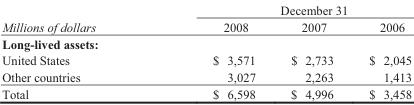table: (1, 1, 411, 101)
table column: (1, 1, 153, 101), (153, 1, 272, 101), (272, 1, 350, 101), (350, 1, 411, 101)
table column header: (1, 1, 411, 34)
table projected row header: (1, 34, 411, 51)
table row: (1, 17, 411, 34), (1, 34, 411, 51), (1, 51, 411, 68), (1, 84, 411, 101), (1, 1, 411, 17), (1, 68, 411, 84)
table spanning cell: (1, 1, 153, 34), (153, 1, 411, 17)
